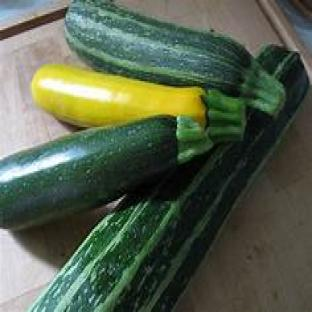Zucchini: (30, 48, 309, 311), (0, 92, 244, 227), (32, 64, 245, 126)
